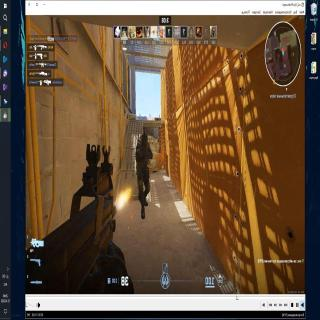CT-Body: (133, 130, 153, 222)
CT-Head: (138, 130, 150, 148)
